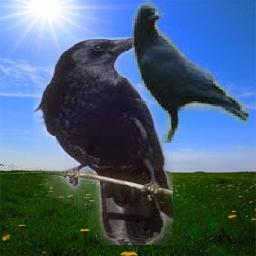Crow: (33, 37, 173, 245), (133, 1, 250, 144)
